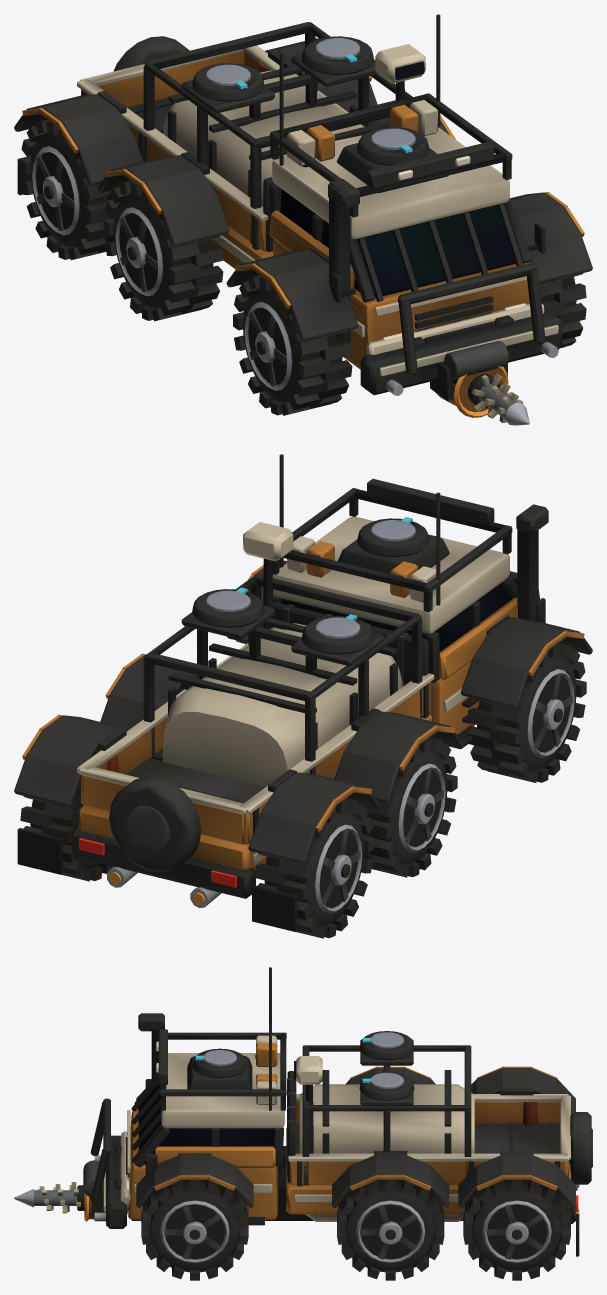
File: ex_rover_6.glb
3 renders of one model, top to bottom at view 1: azimuth 30°, elevation 25°; view 2: azimuth 150°, elevation 25°; view 3: azimuth 270°, elevation 25°, orthographic. The views are drawn at different scales.
Parts seen in each view (by area): view 1: body, wheel_3, wheel_1, wheel_5, wheel_0, drill; view 2: body, wheel_1, wheel_5, wheel_3, wheel_4; view 3: body, wheel_2, wheel_0, wheel_4, drill.
Part boxes in pixels (left/top/right/bottom): body: left=14, top=14, right=592, bottom=417; wheel_3: left=103, top=181, right=223, bottom=321; wheel_1: left=233, top=275, right=352, bottom=415; wheel_5: left=20, top=120, right=114, bottom=260; wheel_0: left=539, top=273, right=586, bottom=348; drill: left=468, top=373, right=529, bottom=425; body: left=14, top=454, right=592, bottom=931; wheel_1: left=467, top=642, right=586, bottom=782; wheel_5: left=254, top=798, right=373, bottom=938; wheel_3: left=363, top=737, right=457, bottom=877; wheel_4: left=20, top=749, right=113, bottom=881; body: left=83, top=967, right=592, bottom=1256; wheel_2: left=337, top=1180, right=444, bottom=1280; wheel_0: left=141, top=1180, right=248, bottom=1280; wheel_4: left=463, top=1180, right=570, bottom=1280; drill: left=14, top=1182, right=84, bottom=1213.
Bounding box in the file's own units: 5.43 × 5.28 × 11.96.
